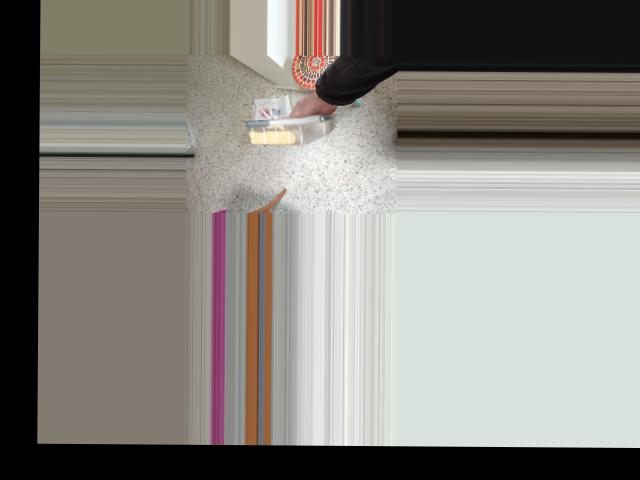cheese: (244, 96, 330, 156)
